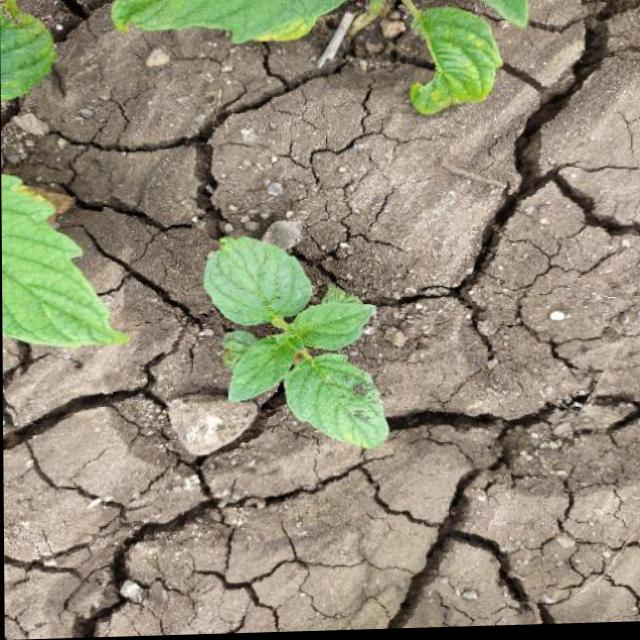crop: (181, 214, 417, 467)
